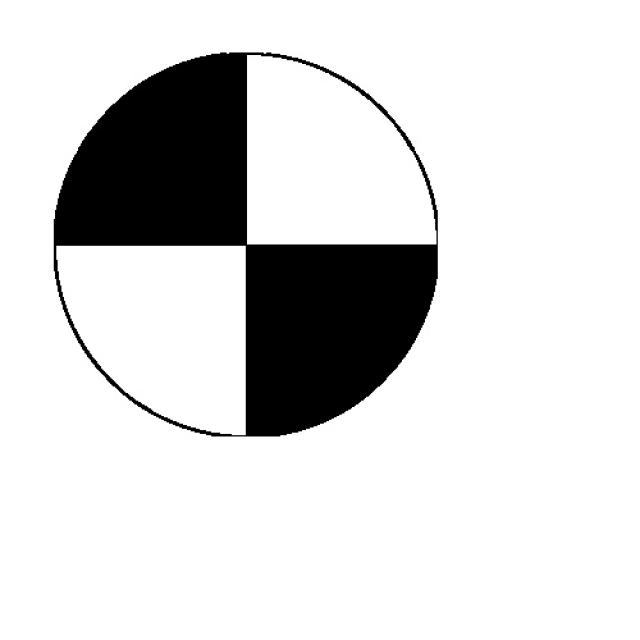Marcadores: (51, 52, 434, 438)
